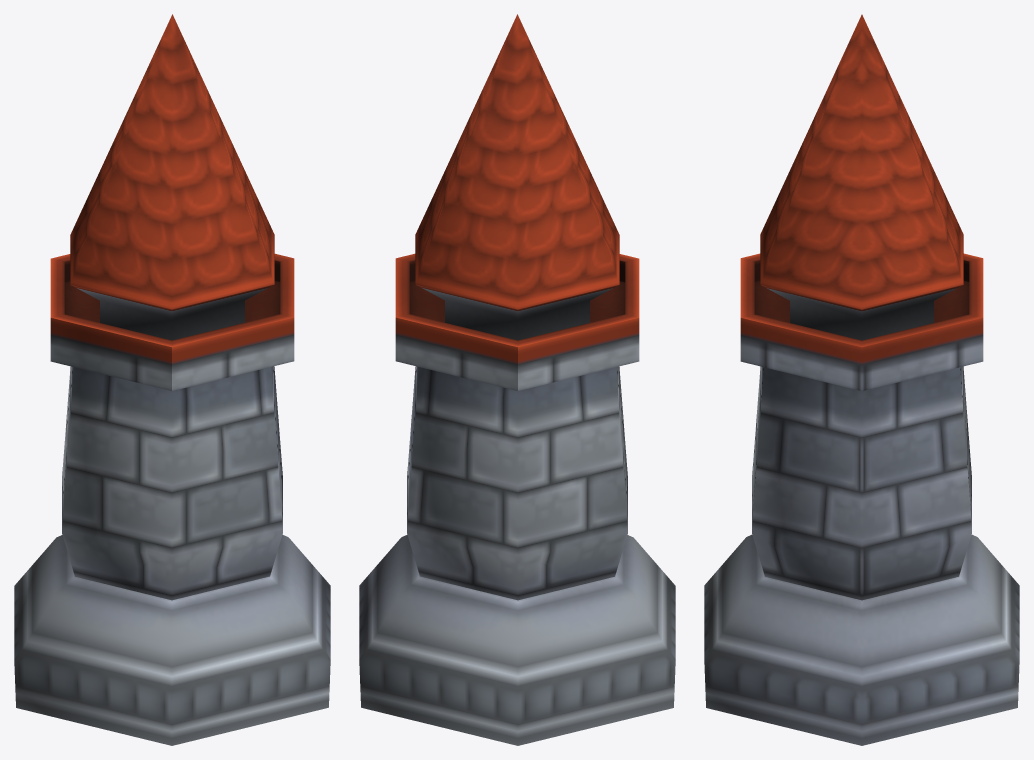
Rendered from MageTower_Lv3_SmallTower.FBX.
3 views of the same model, side by side, from view 1: azimuth 30°, elevation 25°; view 2: azimuth 150°, elevation 25°; view 3: azimuth 270°, elevation 25° (orthographic).
Parts seen in each view (by area): view 1: MageTower_Lv3_SmallTower; view 2: MageTower_Lv3_SmallTower; view 3: MageTower_Lv3_SmallTower.
Part boxes in pixels (x1,y1,x2,y2): MageTower_Lv3_SmallTower: [14, 14, 330, 745]; MageTower_Lv3_SmallTower: [359, 14, 675, 745]; MageTower_Lv3_SmallTower: [704, 14, 1019, 745].
Bounding box in the file's own units: 17.28 × 34.25 × 14.92.
